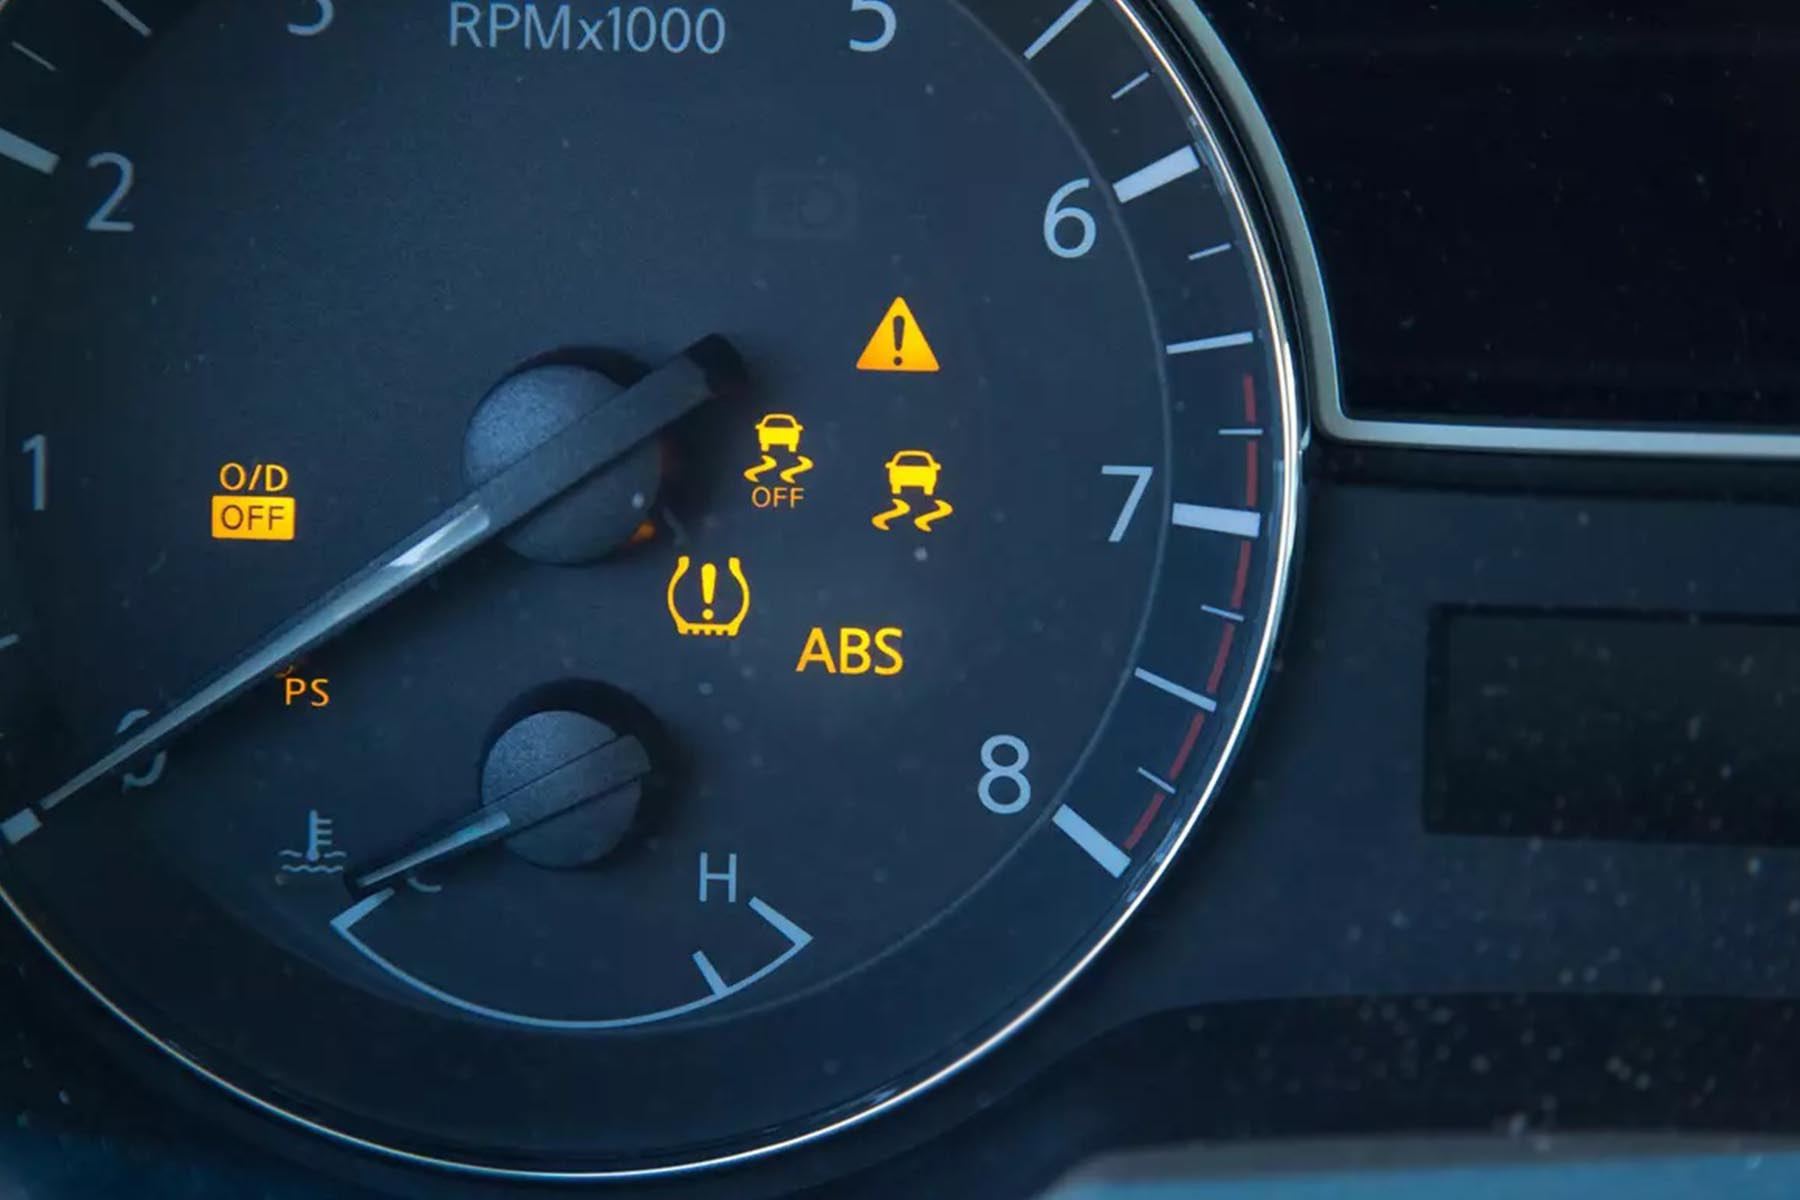ABS: (790, 610, 912, 694)
